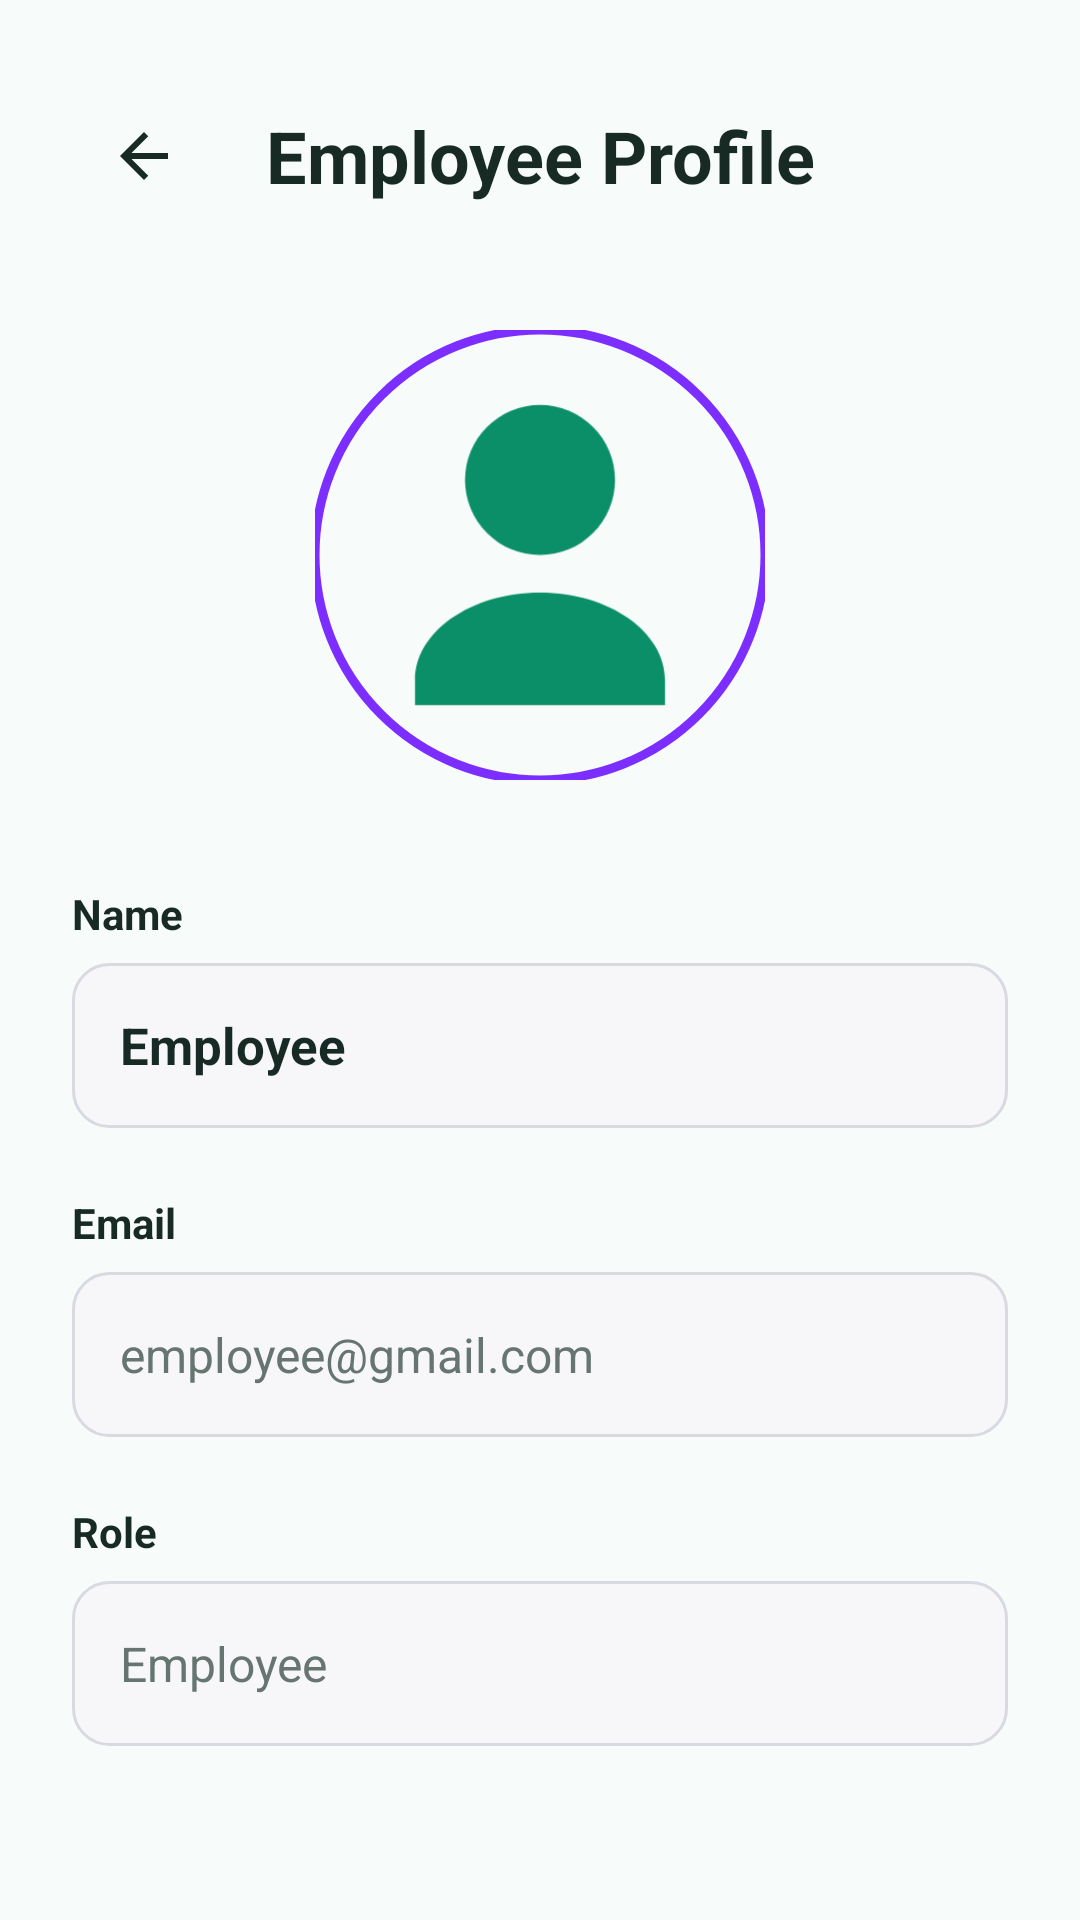

Named icons in this screenshot (1080px x 1920px) and their centers, point (x, y):
Back: point (144, 156)
